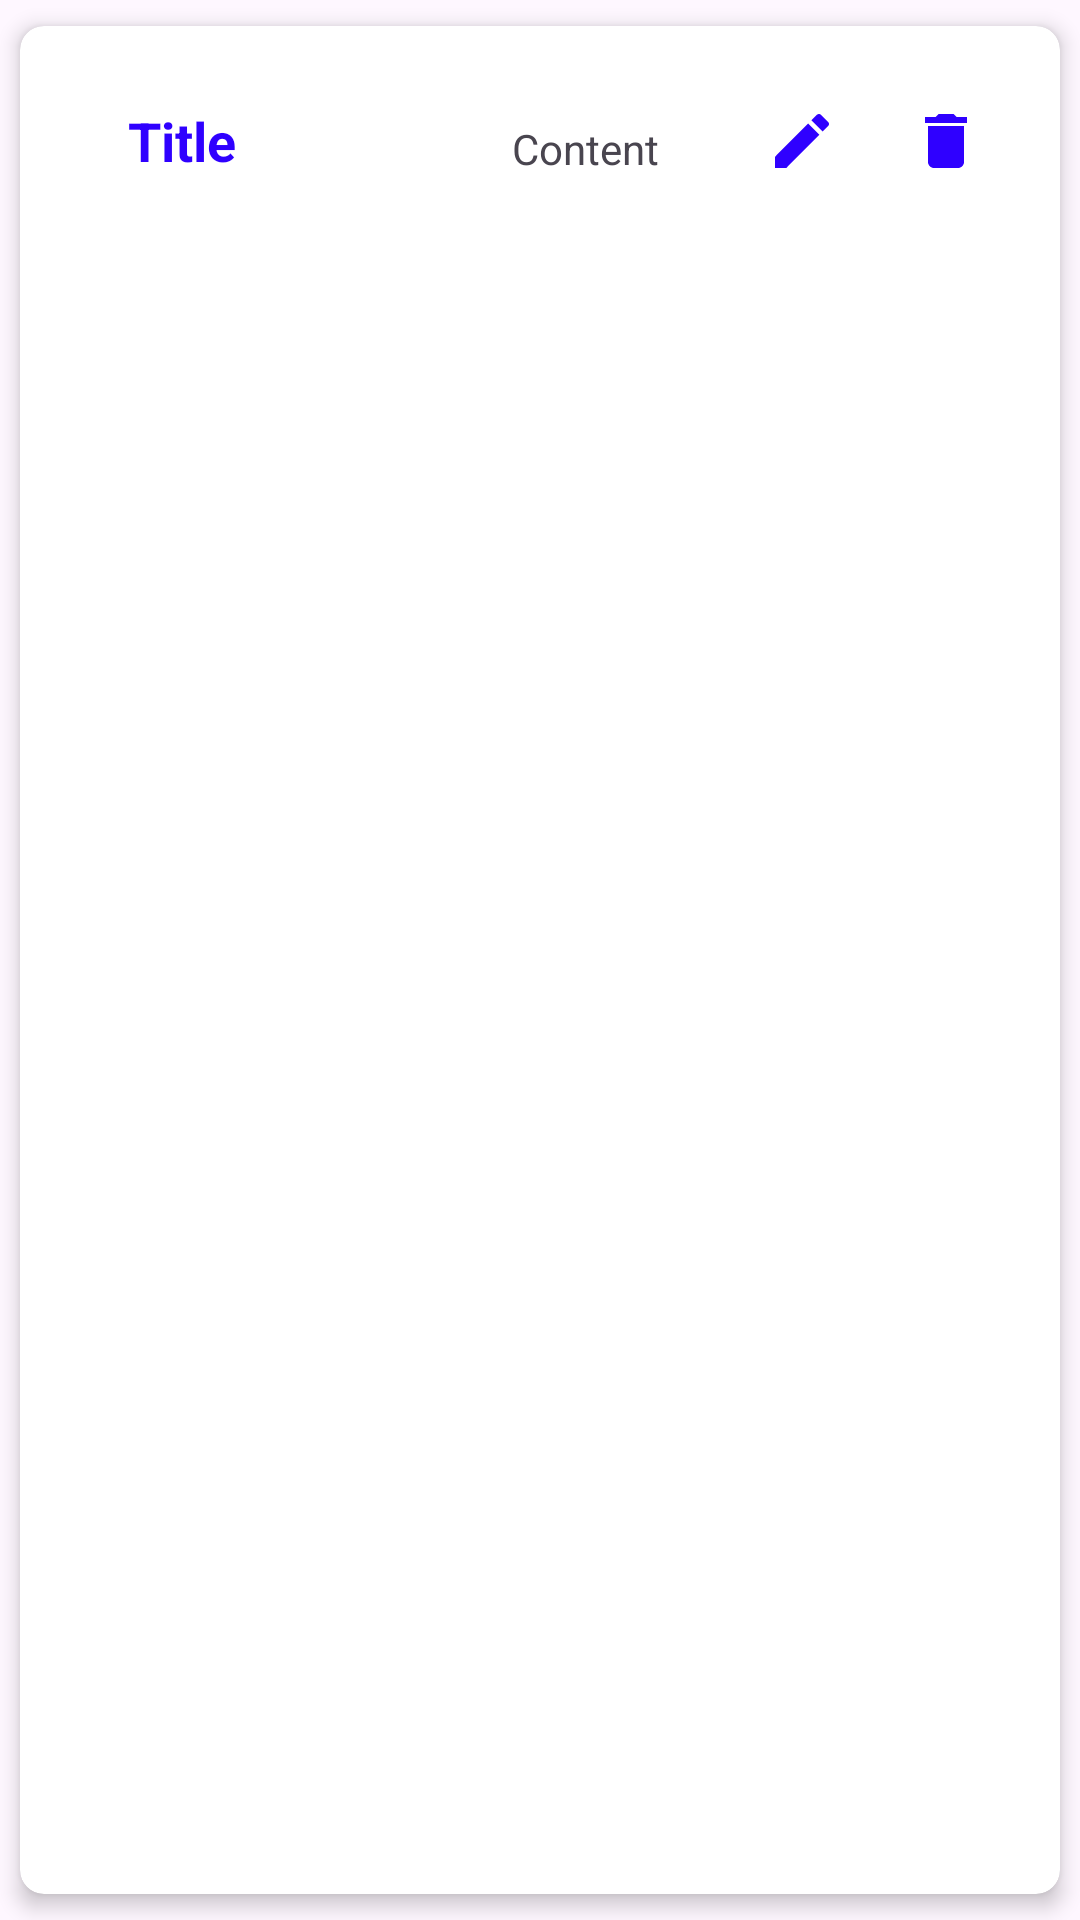

Screen size 1080px x 1920px. Icon name, then its box in pixels as (left=x1, top=y1, right=x2, bottom=y2):
delete: (left=925, top=114, right=967, bottom=168)
edit: (left=775, top=114, right=829, bottom=168)
